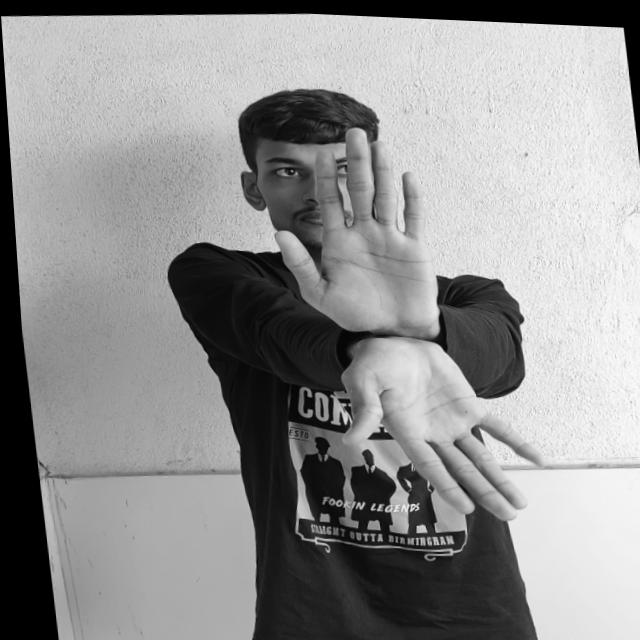Morning: (254, 110, 557, 532)
